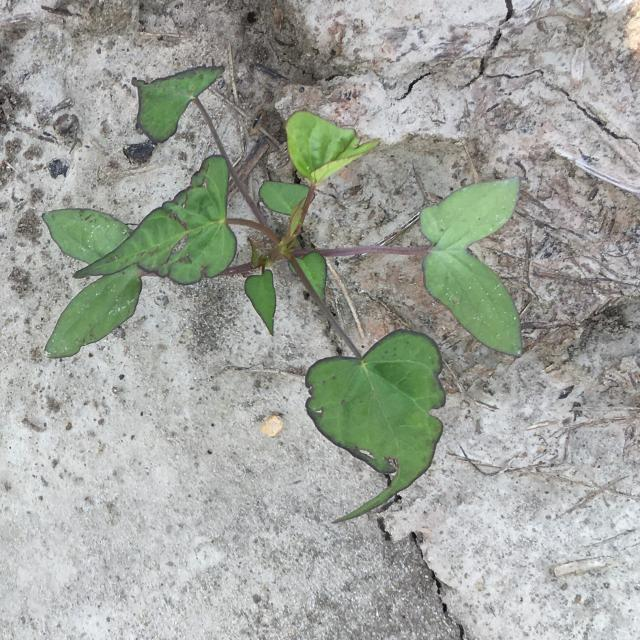MorningGlory: (42, 66, 522, 523)
